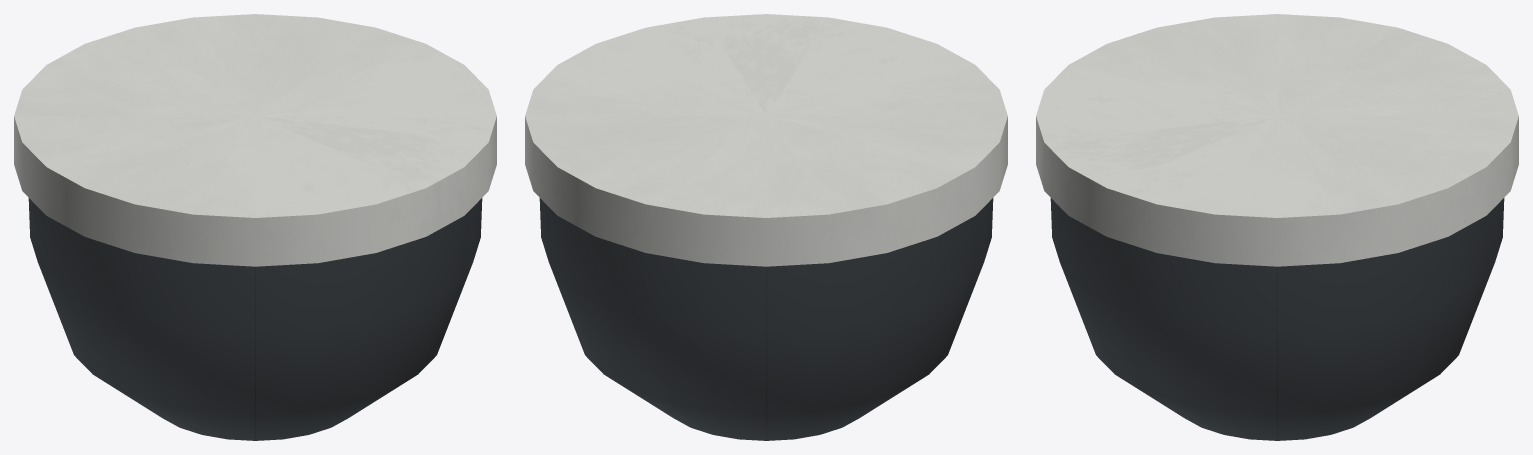
File: SM_QUE_SecurityCam.fbx
3 views of the same model, side by side, from view 1: azimuth 30°, elevation 25°; view 2: azimuth 150°, elevation 25°; view 3: azimuth 270°, elevation 25° (orthographic).
Visible parts, largest first — view 1: SM_QUE_SecurityCam; view 2: SM_QUE_SecurityCam; view 3: SM_QUE_SecurityCam.
Part boxes in pixels (bbox=[...]): SM_QUE_SecurityCam: bbox=[14, 14, 496, 440]; SM_QUE_SecurityCam: bbox=[525, 14, 1007, 440]; SM_QUE_SecurityCam: bbox=[1036, 14, 1518, 440].
Bounding box in the file's own units: 0.18 × 0.12 × 0.18.
